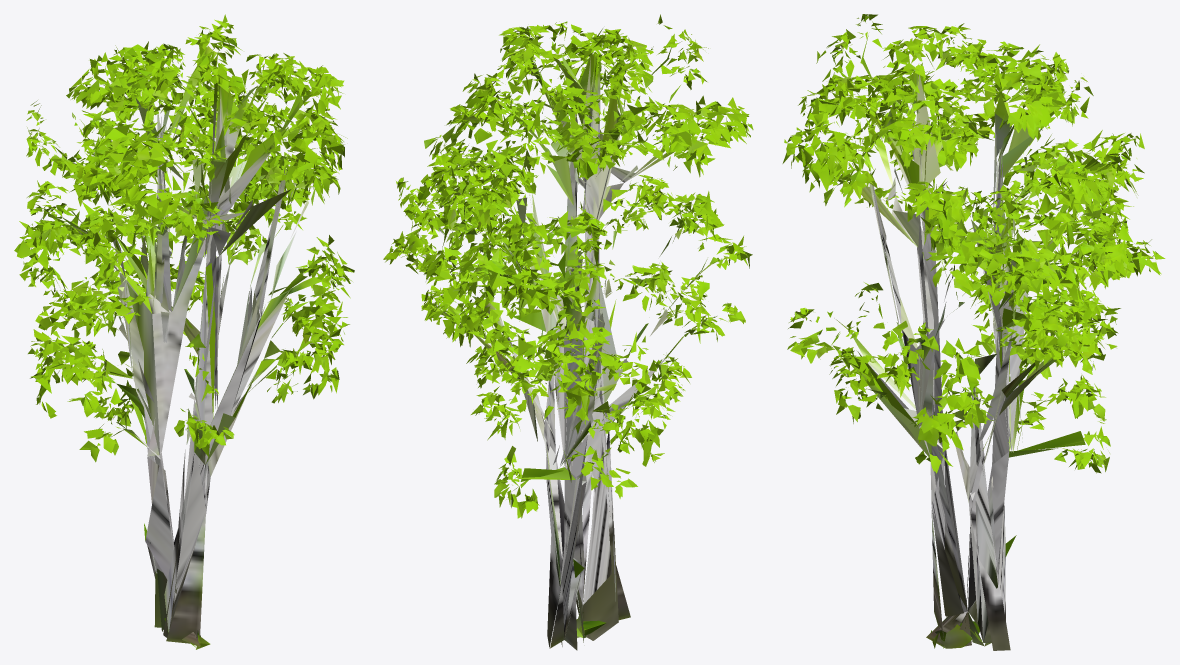
The model's file is meshy-tree-m2.glb.
3 views of the same model, side by side, from view 1: azimuth 30°, elevation 25°; view 2: azimuth 150°, elevation 25°; view 3: azimuth 270°, elevation 25° (orthographic). The views are drawn at different scales.
Parts seen in each view (by area): view 1: Mesh_0; view 2: Mesh_0; view 3: Mesh_0.
Part boxes in pixels (x1,y1,x2,y2): Mesh_0: (14,14,354,649); Mesh_0: (383,14,753,650); Mesh_0: (782,14,1165,650).
Bounding box in the file's own units: 0.9558 × 1.89 × 1.08.
1 material, 1 textured.
